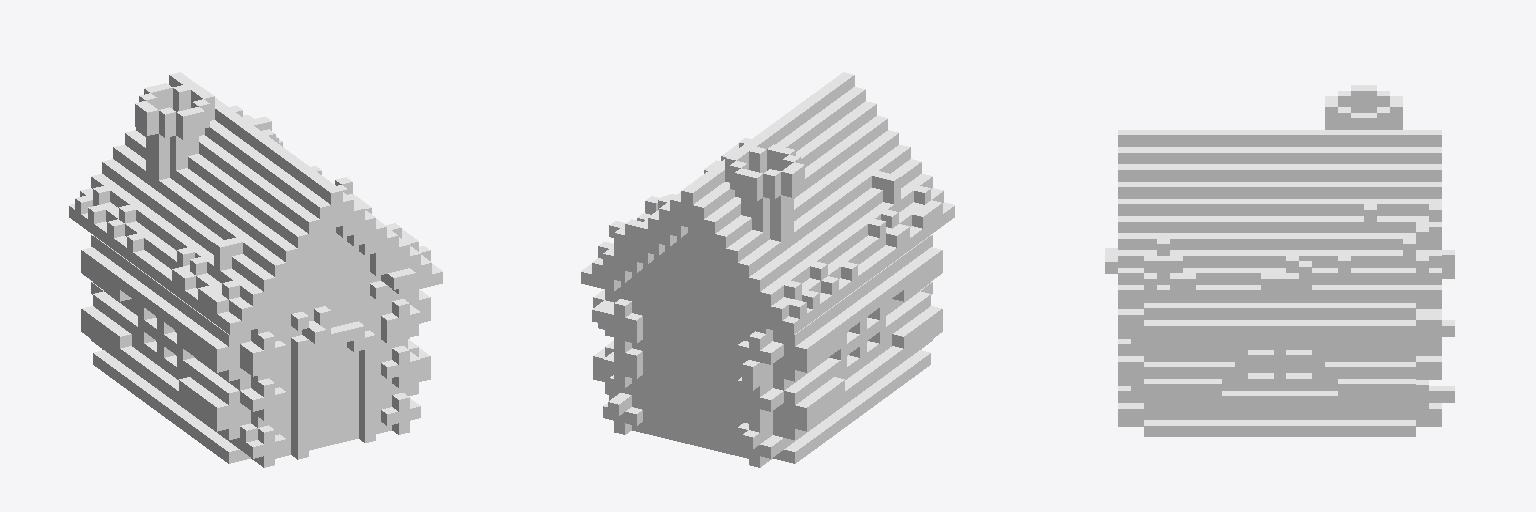
Rendered from cubeland1-17.obj.
3 views of the same model, side by side, from view 1: azimuth 30°, elevation 25°; view 2: azimuth 150°, elevation 25°; view 3: azimuth 270°, elevation 25° (orthographic).
Parts seen in each view (by area): view 1: object 1; view 2: object 1; view 3: object 1.
Part boxes in pixels (bbox=[...]): object 1: bbox=[69, 72, 442, 467]; object 1: bbox=[581, 72, 954, 467]; object 1: bbox=[1105, 85, 1454, 436].
Size of the model in its own units: 1.9 by 2.3 by 2.7.